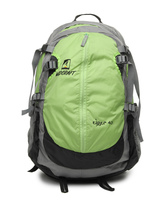bag: (18, 12, 147, 195)
